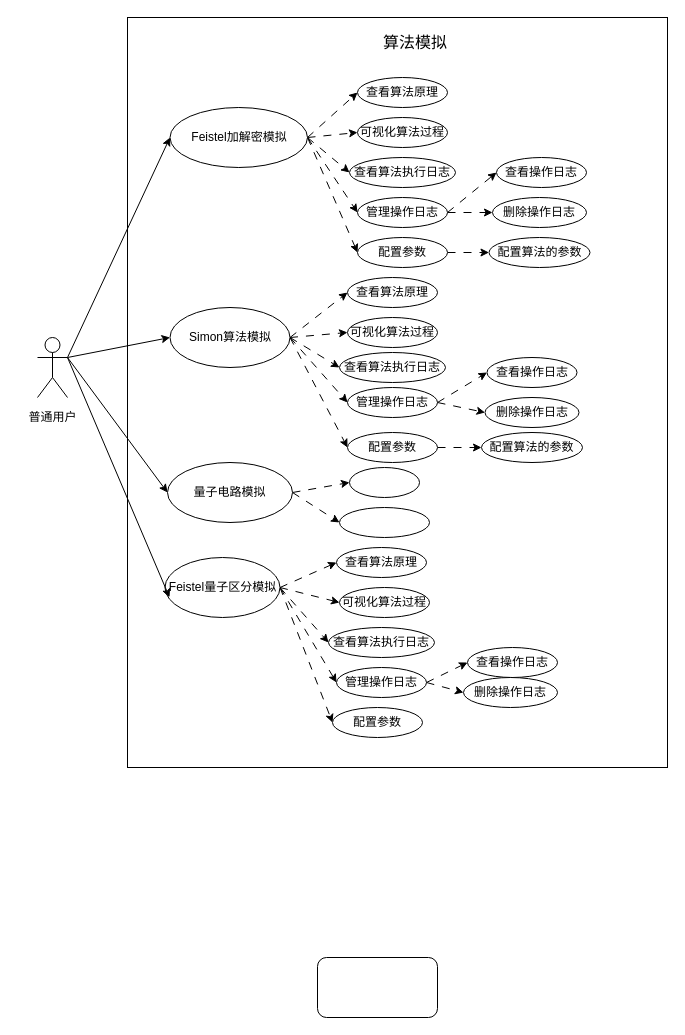
The diagram is 685 pixels wide and 1035 high, and some of its shapes have lost their labels. The shapes that lost their labels are listed below. From the top down, each one's centre as x and y in pixels, then its label:
At point (384, 482): "可视化交互".
At point (384, 522): "查看原理".
